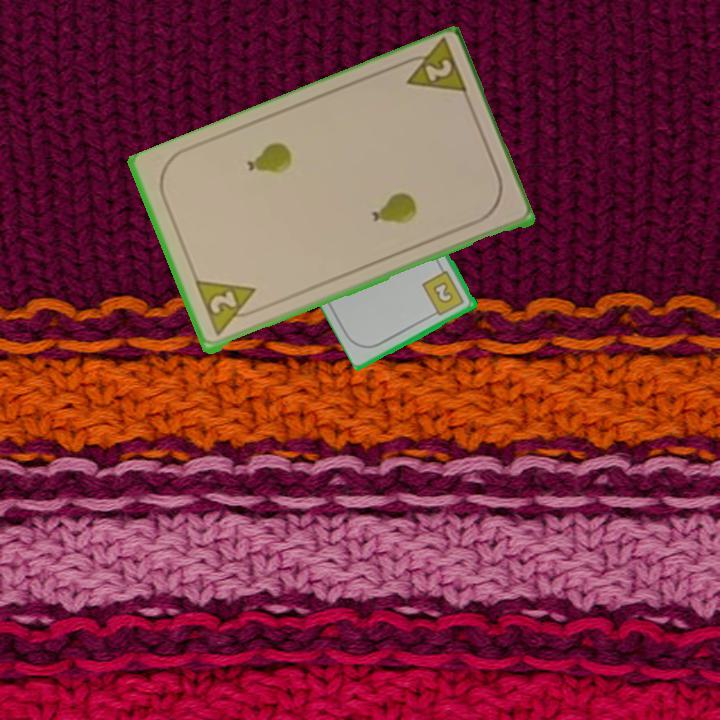2b: (419, 268, 467, 319)
2p: (394, 38, 471, 100), (192, 277, 264, 340)
